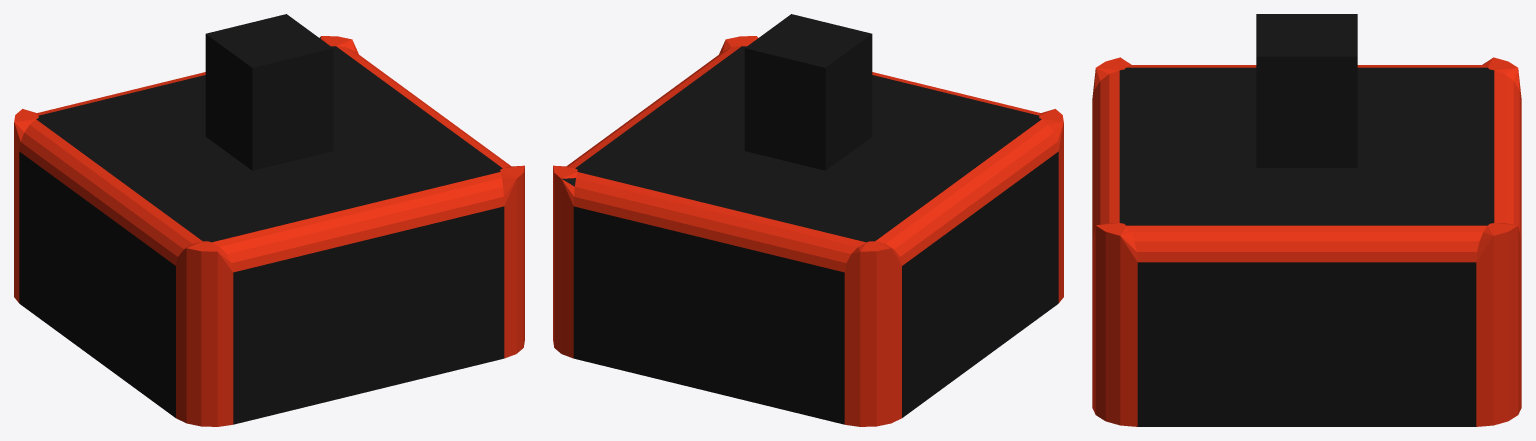
The model's file is MeteorShooter.fbx.
3 views of the same model, side by side, from view 1: azimuth 30°, elevation 25°; view 2: azimuth 150°, elevation 25°; view 3: azimuth 270°, elevation 25° (orthographic). The views are drawn at different scales.
Parts seen in each view (by area): view 1: Base; view 2: Base; view 3: Base.
Part boxes in pixels (box(x1,y1,x2,y2)): Base: box(14, 14, 524, 426); Base: box(553, 14, 1063, 426); Base: box(1092, 14, 1521, 426).
Bounding box in the file's own units: 2 × 2 × 1.55.
